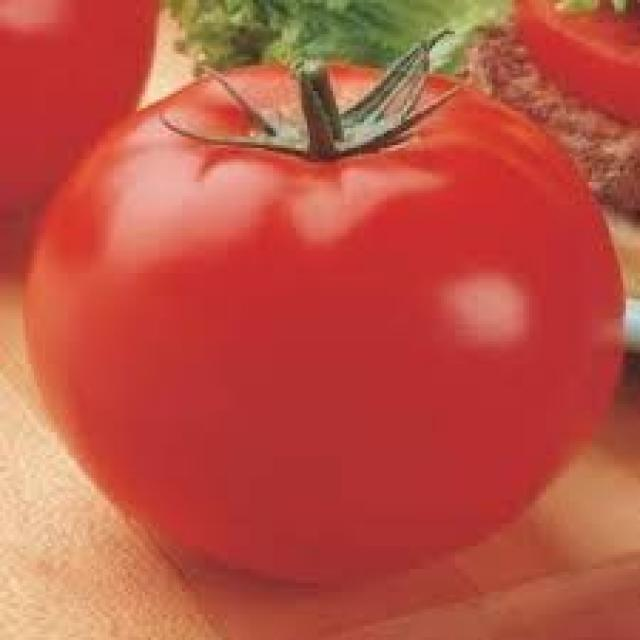organic waste: (20, 57, 623, 580), (0, 0, 156, 281), (168, 0, 512, 82), (475, 31, 637, 202), (514, 0, 637, 122)
